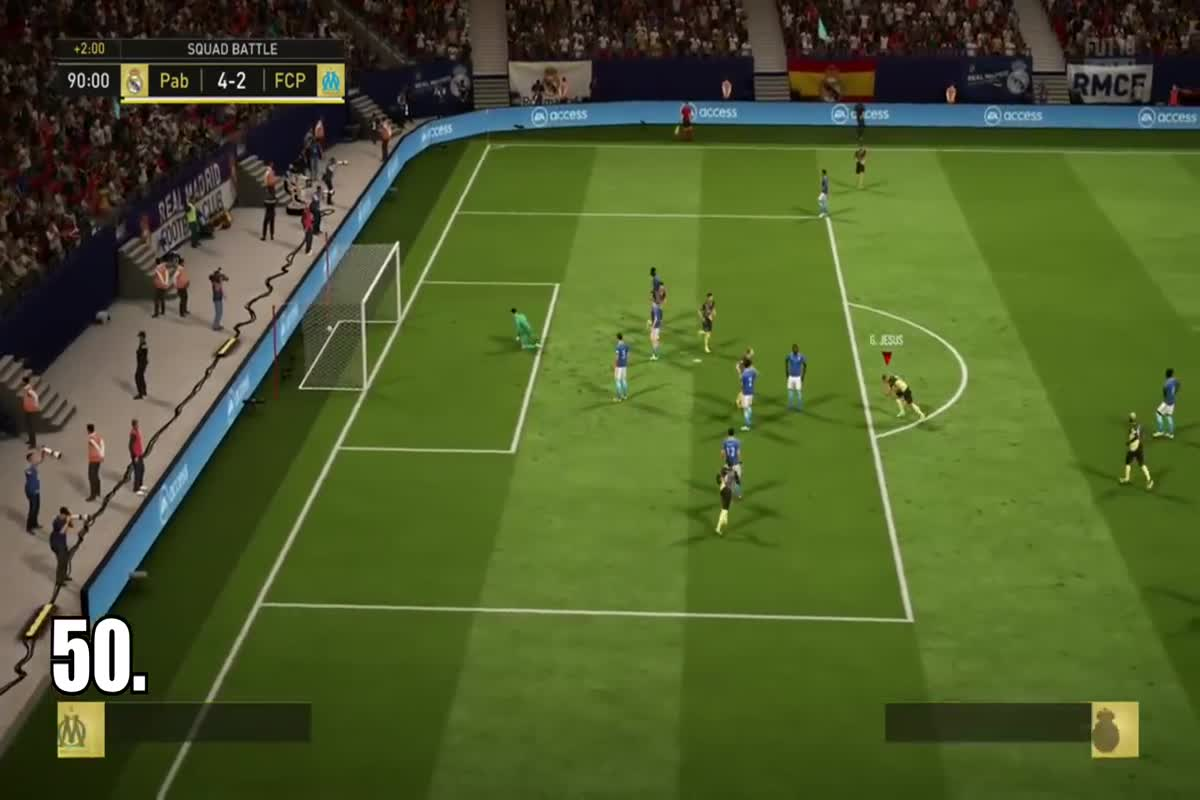ball: (319, 320, 340, 338)
